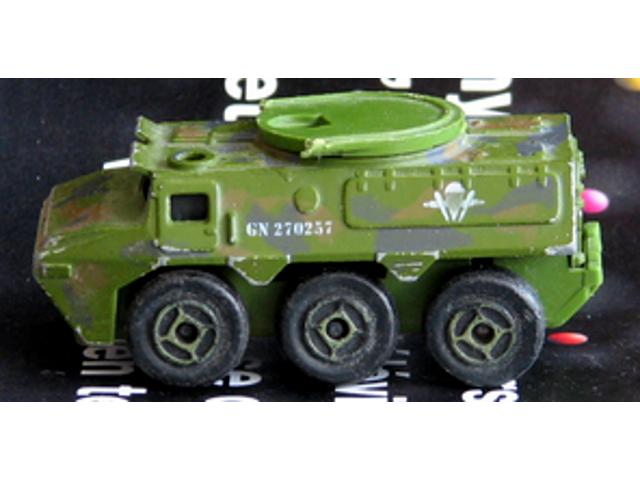toy-car: (31, 89, 606, 391)
